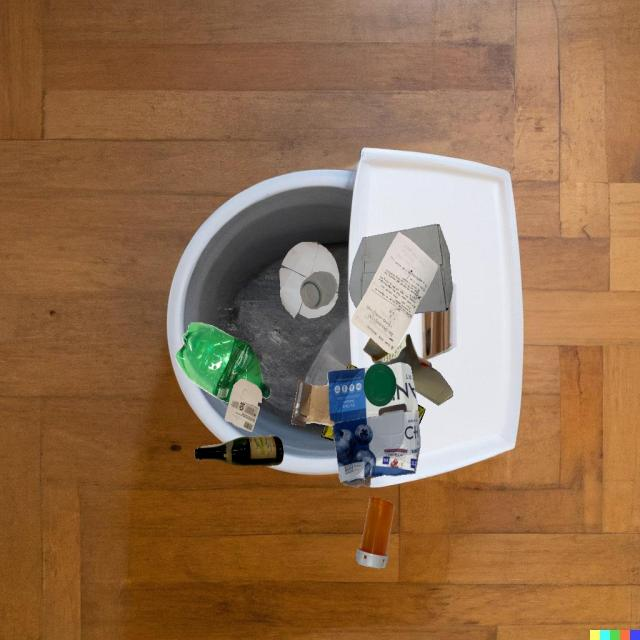cardboard: (291, 362, 420, 487), (349, 224, 453, 313), (363, 334, 453, 406)
glass: (194, 436, 284, 466), (300, 271, 337, 309)
paper: (352, 232, 438, 354), (279, 241, 339, 319), (224, 379, 262, 432)
plastic: (175, 323, 270, 403), (356, 497, 394, 568), (363, 363, 396, 407)
trash: (332, 369, 419, 426)
